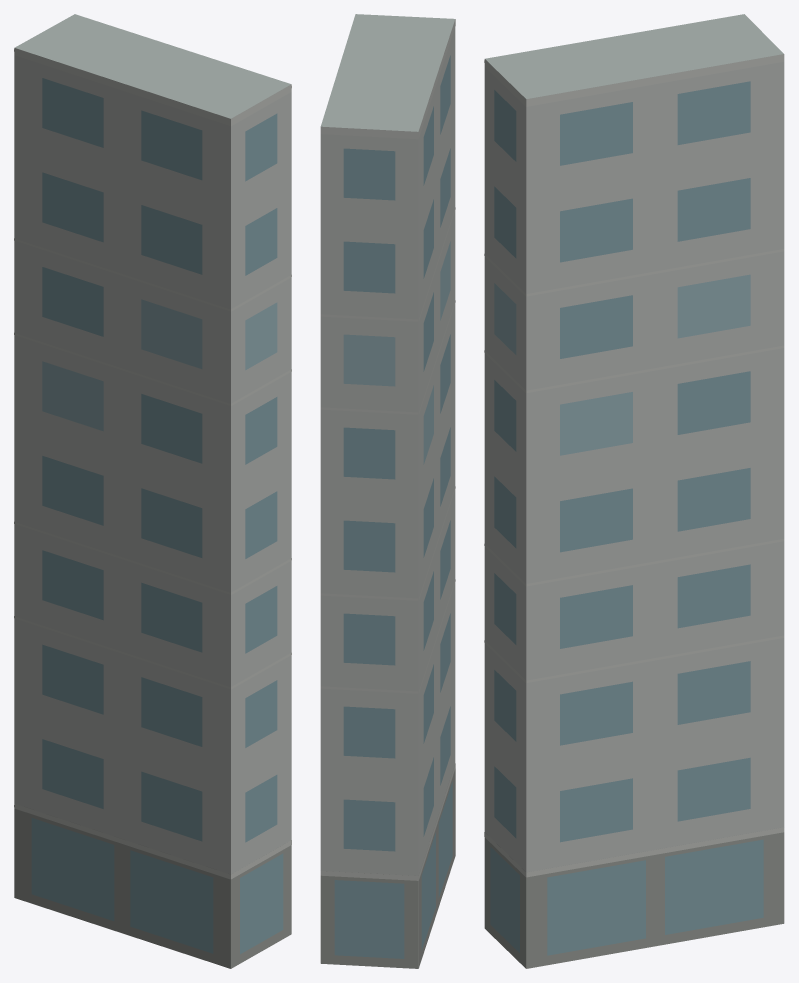
File: survey-upis-32617010.glb
3 renders of one model, left to right at view 1: azimuth 30°, elevation 25°; view 2: azimuth 150°, elevation 25°; view 3: azimuth 270°, elevation 25°, orthographic. The views are drawn at different scales.
Parts seen in each view (by area): view 1: survey-upis-32617010.tmp; view 2: survey-upis-32617010.tmp; view 3: survey-upis-32617010.tmp.
Boxes of the visible parts, x1,y1,x2,y2 form: survey-upis-32617010.tmp: [14, 14, 291, 968]; survey-upis-32617010.tmp: [320, 14, 455, 968]; survey-upis-32617010.tmp: [484, 14, 784, 968].
Bounding box in the file's own units: 5.79 × 27.45 × 8.59.
